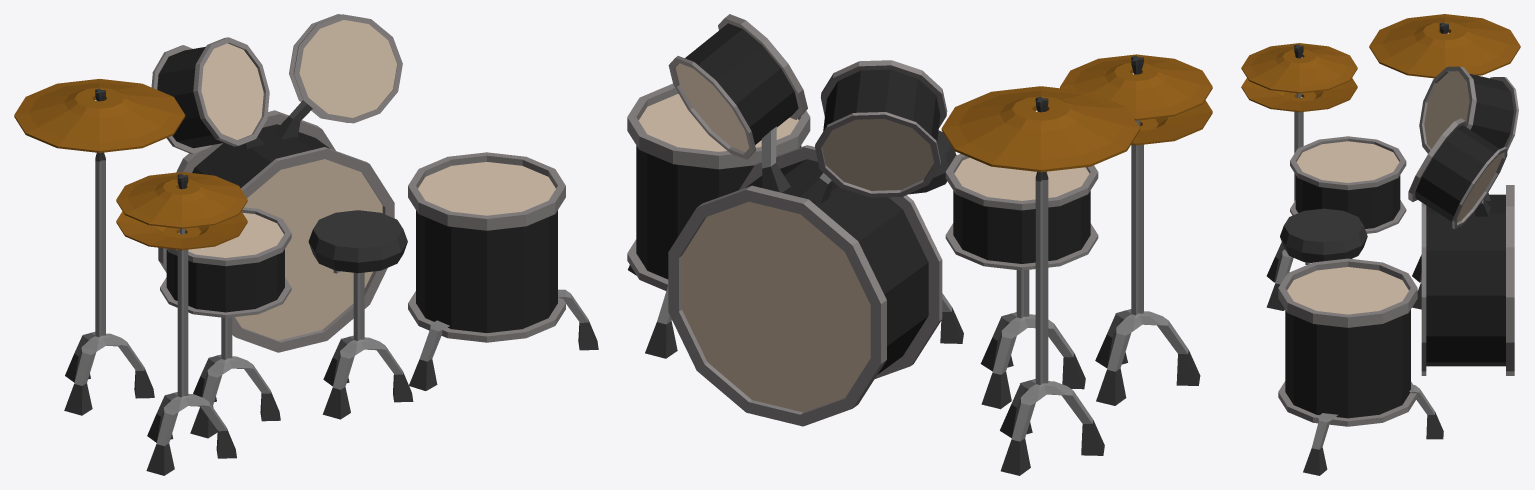
Rendered from DrumKit.fbx.
3 renders of one model, left to right at view 1: azimuth 30°, elevation 25°; view 2: azimuth 150°, elevation 25°; view 3: azimuth 270°, elevation 25°, orthographic. The views are drawn at different scales.
Parts seen in each view (by area): view 1: Floor Tom, Kick Drum, Left Tom, Crash Cymbal, Right Tom, Snare, Seat, High Hat Top, Crash Cymbal Stand, High Hat Stand, Snare Stand, High Hat Bottom; view 2: Kick Drum, Floor Tom, Left Tom, Snare, Crash Cymbal, Right Tom, Crash Cymbal Stand, High Hat Top, High Hat Stand, Snare Stand, High Hat Bottom, Seat; view 3: Floor Tom, Kick Drum, Snare, Crash Cymbal, Right Tom, Left Tom, High Hat Top, Seat, High Hat Bottom, High Hat Stand, Crash Cymbal Stand.
Boxes of the visible parts, x1,y1,x2,y2 form: Floor Tom: (408, 152, 598, 390); Kick Drum: (158, 100, 394, 352); Left Tom: (151, 37, 269, 153); Crash Cymbal: (14, 79, 185, 152); Right Tom: (289, 14, 402, 123); Snare: (160, 207, 291, 317); Seat: (308, 210, 413, 419); High Hat Top: (116, 172, 247, 228); Crash Cymbal Stand: (64, 88, 154, 415); High Hat Stand: (146, 173, 236, 475); Snare Stand: (190, 317, 280, 438); High Hat Bottom: (116, 211, 247, 250); Kick Drum: (668, 126, 942, 426); Floor Tom: (627, 83, 810, 358); Left Tom: (815, 60, 947, 197); Snare: (945, 153, 1098, 270); Crash Cymbal: (941, 86, 1140, 172); Right Tom: (668, 14, 807, 159); Crash Cymbal Stand: (1000, 96, 1104, 475); High Hat Top: (1060, 54, 1212, 120); High Hat Stand: (1095, 55, 1200, 405); Snare Stand: (980, 270, 1085, 409); High Hat Bottom: (1131, 100, 1212, 145); Seat: (909, 130, 963, 343); Floor Tom: (1278, 258, 1443, 475); Kick Drum: (1421, 185, 1514, 375); Snare: (1290, 136, 1406, 233); Crash Cymbal: (1369, 14, 1520, 78); Right Tom: (1408, 118, 1507, 229); Left Tom: (1419, 66, 1518, 153); High Hat Top: (1241, 43, 1357, 93); Seat: (1280, 208, 1367, 264); High Hat Bottom: (1241, 78, 1357, 112); High Hat Stand: (1266, 44, 1303, 310); Crash Cymbal Stand: (1412, 22, 1448, 309).
Size of the model in its own units: 2110 by 1265 by 1152.
